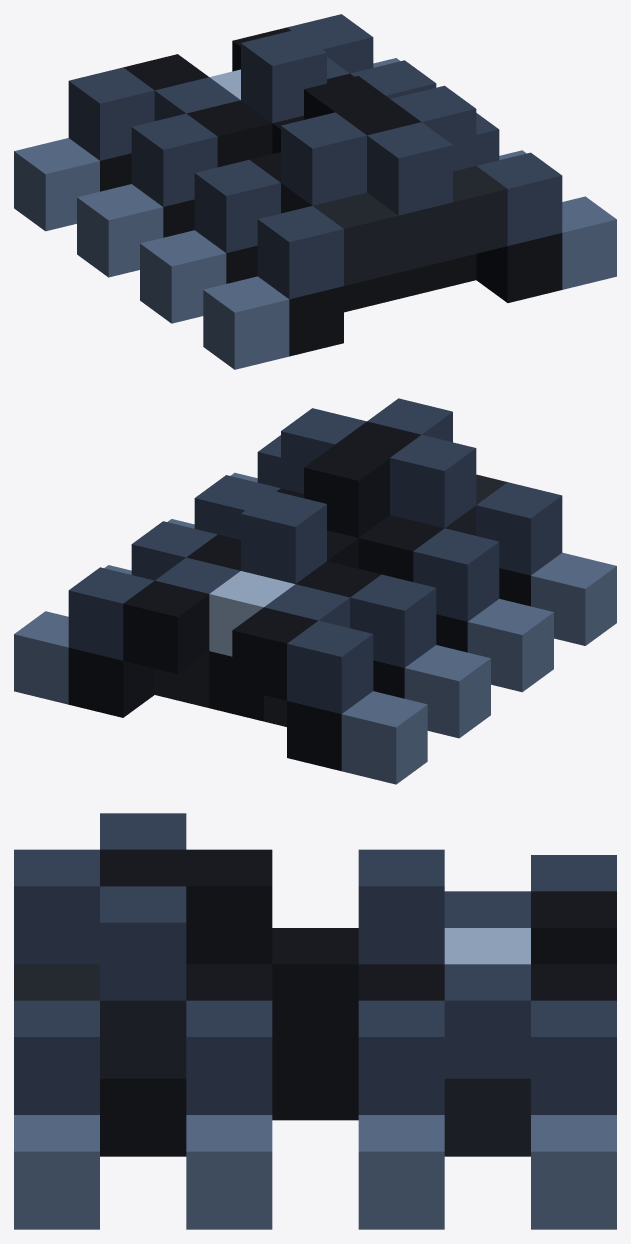
Rendered from brazilian_black.glb.
3 renders of one model, top to bottom at view 1: azimuth 30°, elevation 25°; view 2: azimuth 150°, elevation 25°; view 3: azimuth 270°, elevation 25°, orthographic. The views are drawn at different scales.
Parts seen in each view (by area): view 1: spider; view 2: spider; view 3: spider.
Boxes of the visible parts, <box> form: spider: <box>14,14,616,369</box>; spider: <box>14,398,616,784</box>; spider: <box>14,813,616,1229</box>.
Size of the model in its own units: 7 by 3 by 7.
